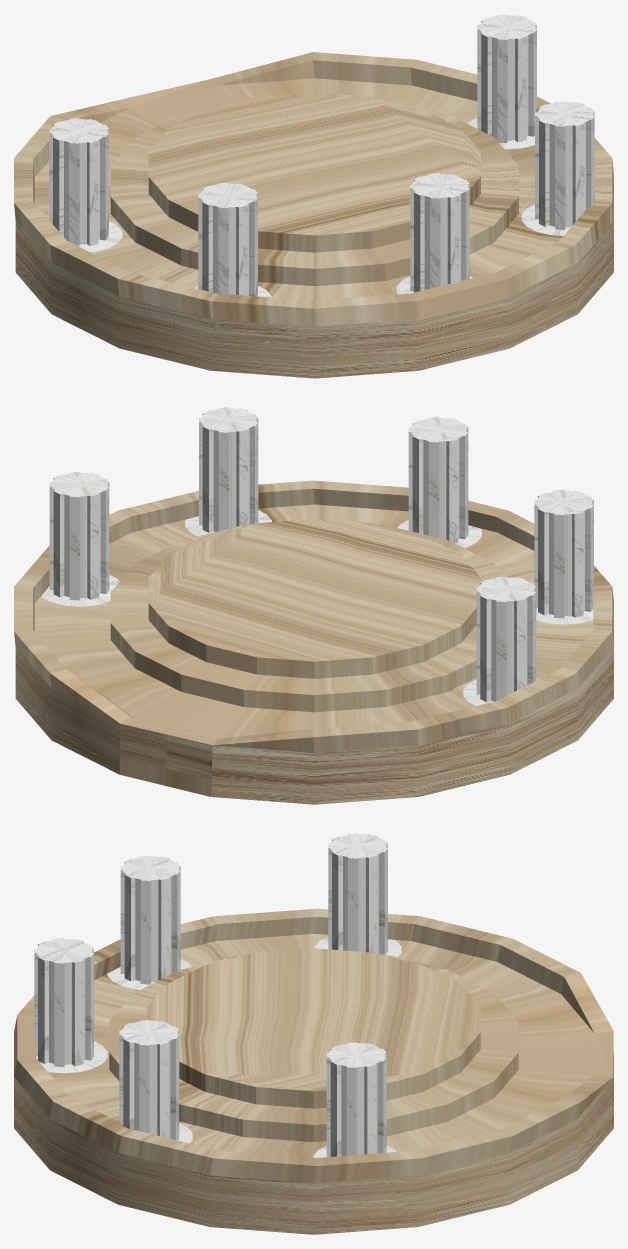
The model's file is start_platform.FBX.
3 renders of one model, top to bottom at view 1: azimuth 30°, elevation 25°; view 2: azimuth 150°, elevation 25°; view 3: azimuth 270°, elevation 25°, orthographic.
Visible parts, largest first — view 1: Cylinder002, Cylinder010, Cylinder008, Cylinder009, Cylinder004, Cylinder011; view 2: Cylinder002, Cylinder009, Cylinder011, Cylinder004, Cylinder008, Cylinder010; view 3: Cylinder002, Cylinder004, Cylinder011, Cylinder010, Cylinder008, Cylinder009.
Boxes of the visible parts, x1=… form: Cylinder002: x1=14, y1=52, x2=613, y2=378; Cylinder010: x1=49, y1=118, x2=122, y2=252; Cylinder008: x1=521, y1=101, x2=594, y2=235; Cylinder009: x1=467, y1=14, x2=536, y2=149; Cylinder004: x1=396, y1=173, x2=472, y2=294; Cylinder011: x1=194, y1=182, x2=271, y2=297; Cylinder002: x1=14, y1=480, x2=613, y2=804; Cylinder009: x1=41, y1=471, x2=119, y2=606; Cylinder011: x1=534, y1=489, x2=593, y2=624; Cylinder004: x1=397, y1=417, x2=481, y2=548; Cylinder008: x1=185, y1=407, x2=271, y2=536; Cylinder010: x1=463, y1=576, x2=536, y2=705; Cylinder002: x1=14, y1=908, x2=613, y2=1234; Cylinder004: x1=34, y1=938, x2=107, y2=1073; Cylinder011: x1=107, y1=855, x2=191, y2=989; Cylinder010: x1=314, y1=833, x2=401, y2=957; Cylinder008: x1=119, y1=1020, x2=192, y2=1143; Cylinder009: x1=313, y1=1042, x2=396, y2=1157.
Bounding box in the file's own units: 160 × 45.1 × 158.
2 materials, 2 textured.
